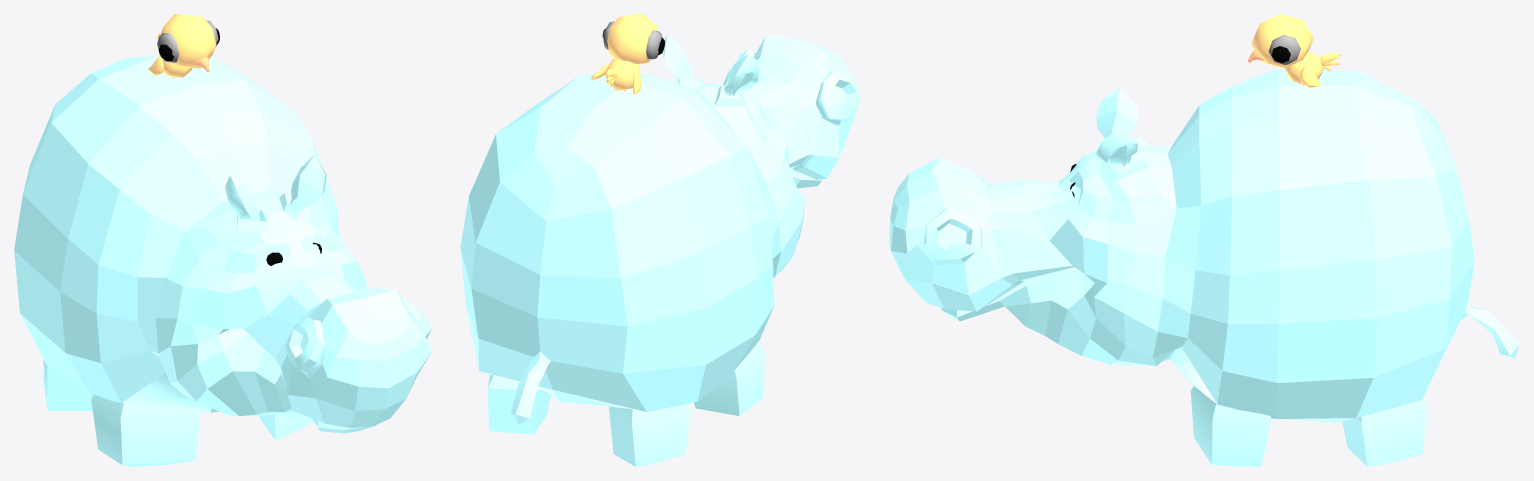
The model's file is Hippo_FBX.fbx.
3 renders of one model, left to right at view 1: azimuth 30°, elevation 25°; view 2: azimuth 150°, elevation 25°; view 3: azimuth 270°, elevation 25°, orthographic. The views are drawn at different scales.
Parts seen in each view (by area): view 1: Body, Bird; view 2: Body, Bird; view 3: Body, Bird.
Boxes of the visible parts, <box> form: Body: <box>14,56,431,466</box>; Bird: <box>148,14,219,78</box>; Body: <box>460,35,860,466</box>; Bird: <box>591,14,664,94</box>; Body: <box>889,68,1519,466</box>; Bird: <box>1248,14,1341,87</box>.
Bounding box in the file's own units: 7.8 × 11.58 × 16.11.
